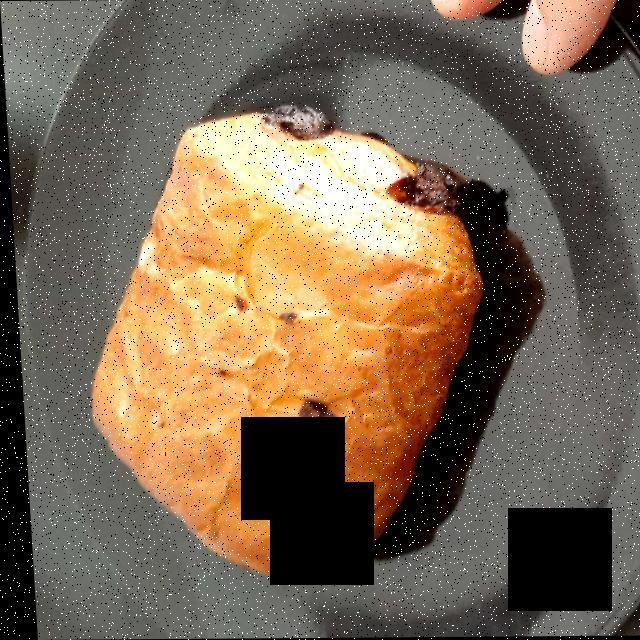bread: (103, 124, 486, 574)
